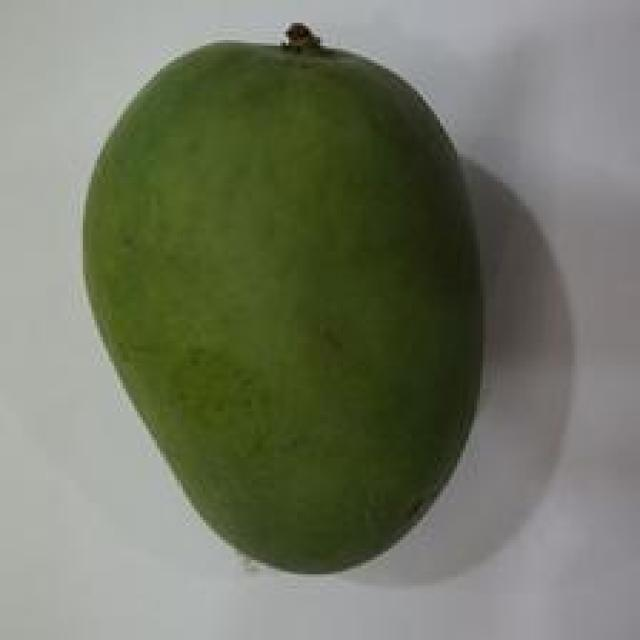Good_Mango: (80, 23, 486, 580)
